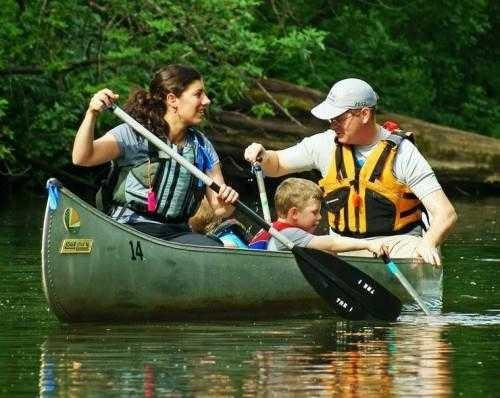kayak: (40, 183, 453, 325)
